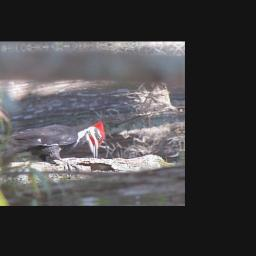Woodpecker: (0, 118, 107, 182)
